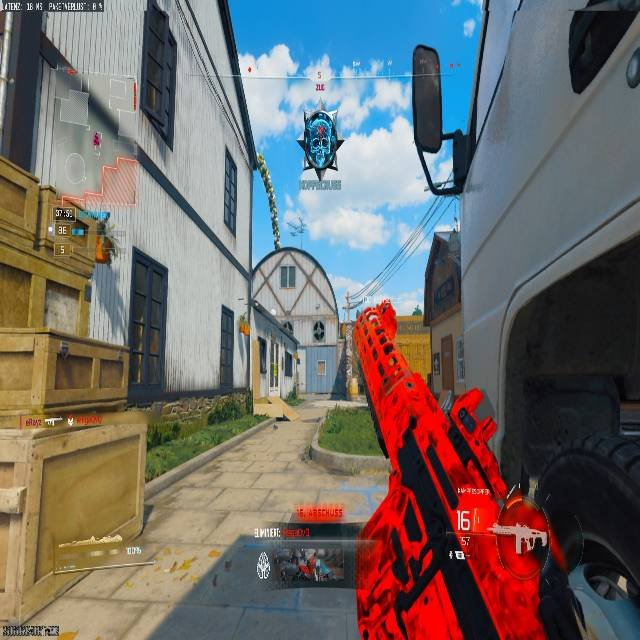player: (299, 108, 342, 182), (413, 304, 422, 314)
